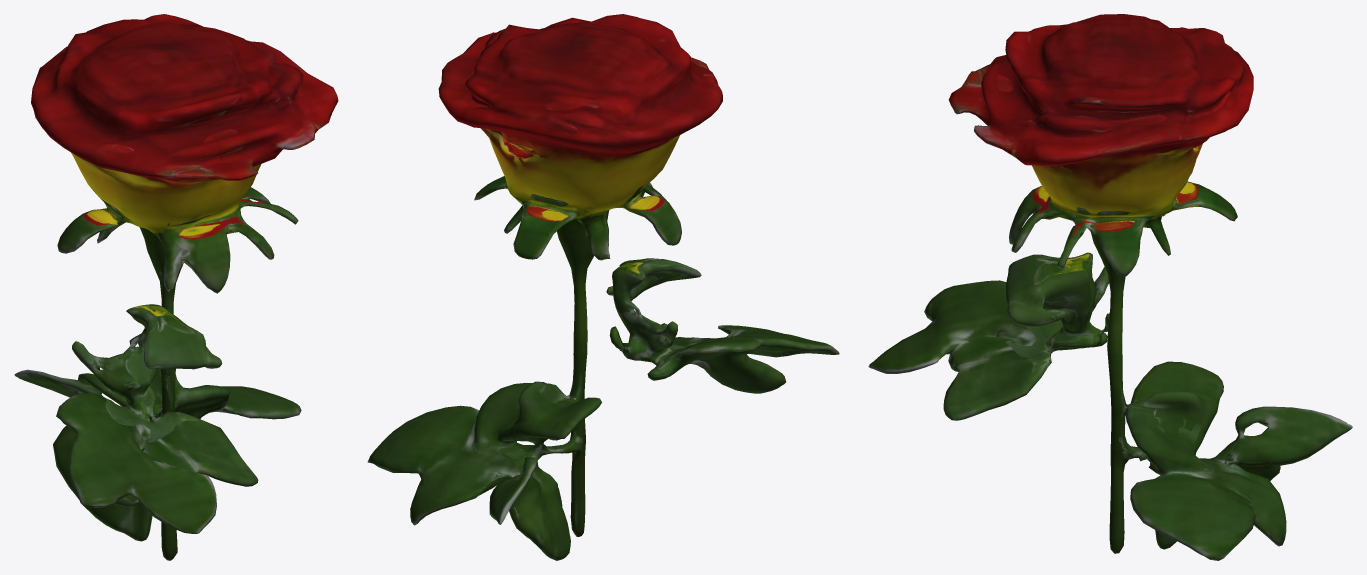
File: 00626c21094e_9d0e31fe7136_yellow_and_red_rose.glb
3 views of the same model, side by side, from view 1: azimuth 30°, elevation 25°; view 2: azimuth 150°, elevation 25°; view 3: azimuth 270°, elevation 25° (orthographic). The views are drawn at different scales.
Parts seen in each view (by area): view 1: mesh; view 2: mesh; view 3: mesh.
Boxes of the visible parts, bbox=[...] form: mesh: bbox=[14, 14, 338, 560]; mesh: bbox=[367, 14, 839, 560]; mesh: bbox=[868, 14, 1352, 560].
Bounding box in the file's own units: 0.7033 × 0.9946 × 0.8466.
Materials: 1 (1 with a texture image).
